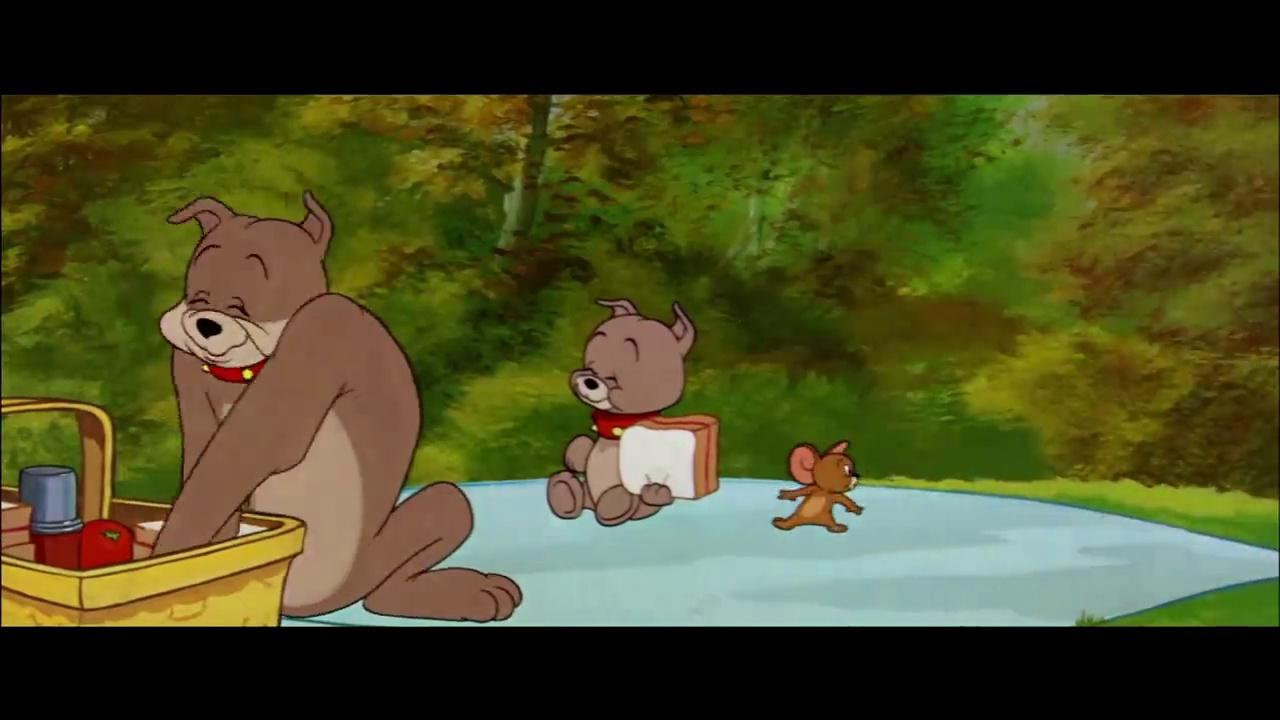Jerry: (769, 439, 867, 536)
